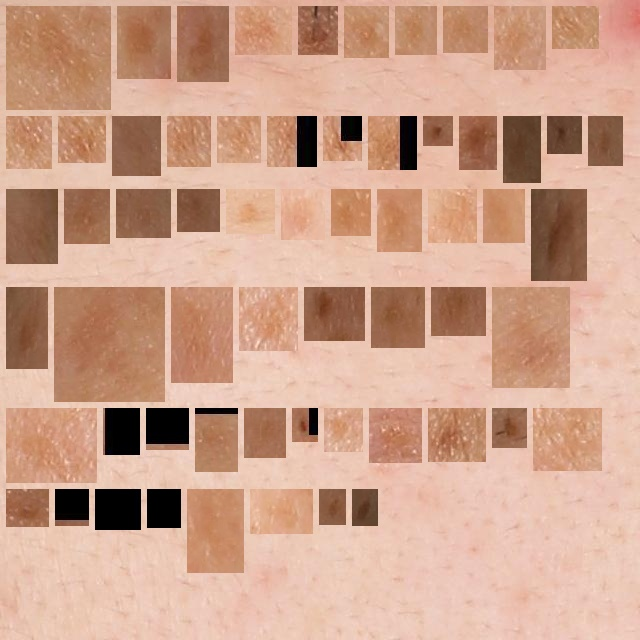melasma: (62, 295, 157, 394), (14, 14, 103, 102), (500, 295, 562, 380), (14, 416, 89, 475), (179, 295, 225, 375), (539, 197, 579, 273), (195, 497, 236, 565), (541, 416, 594, 463), (125, 14, 163, 71), (185, 14, 221, 74), (14, 197, 50, 256), (247, 295, 290, 343), (502, 14, 538, 62), (14, 295, 40, 361), (312, 295, 357, 333), (379, 295, 417, 340), (120, 124, 153, 168), (377, 416, 414, 455), (385, 197, 414, 244), (258, 497, 305, 526), (243, 14, 284, 47), (203, 416, 230, 464), (124, 197, 163, 230), (439, 295, 478, 328), (376, 124, 409, 162), (436, 197, 469, 235), (275, 124, 309, 159), (72, 197, 102, 236), (511, 124, 533, 175), (14, 124, 44, 161), (352, 14, 381, 50), (66, 124, 98, 155), (491, 197, 517, 235), (175, 124, 203, 159), (289, 197, 317, 232), (234, 197, 267, 226), (451, 14, 480, 45), (252, 416, 278, 450), (225, 124, 253, 155), (403, 14, 429, 47), (560, 14, 591, 41), (467, 124, 489, 162), (306, 14, 330, 47), (103, 497, 133, 522), (339, 197, 363, 228), (185, 197, 212, 224), (154, 416, 181, 442), (331, 124, 354, 153), (111, 416, 132, 447), (596, 124, 615, 158), (332, 416, 355, 444), (14, 497, 41, 519), (155, 497, 173, 520), (63, 497, 81, 518)
nevus: (360, 497, 370, 518), (431, 124, 445, 138), (300, 416, 310, 434)
